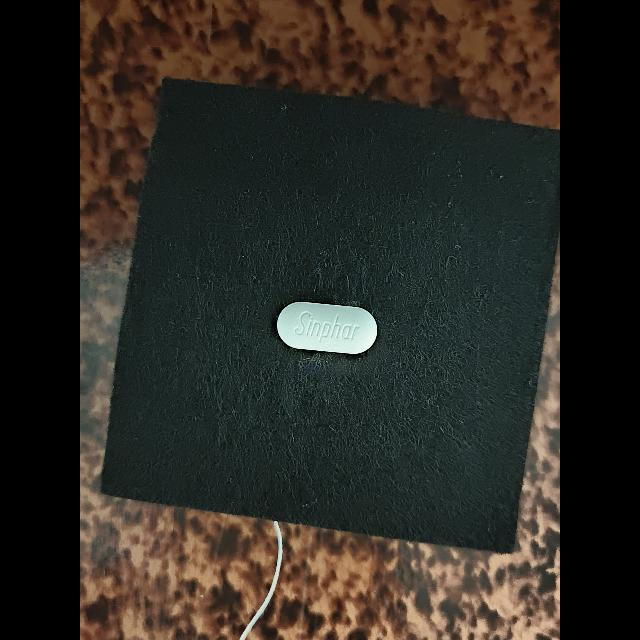Intact Pill: (277, 301, 377, 354)
